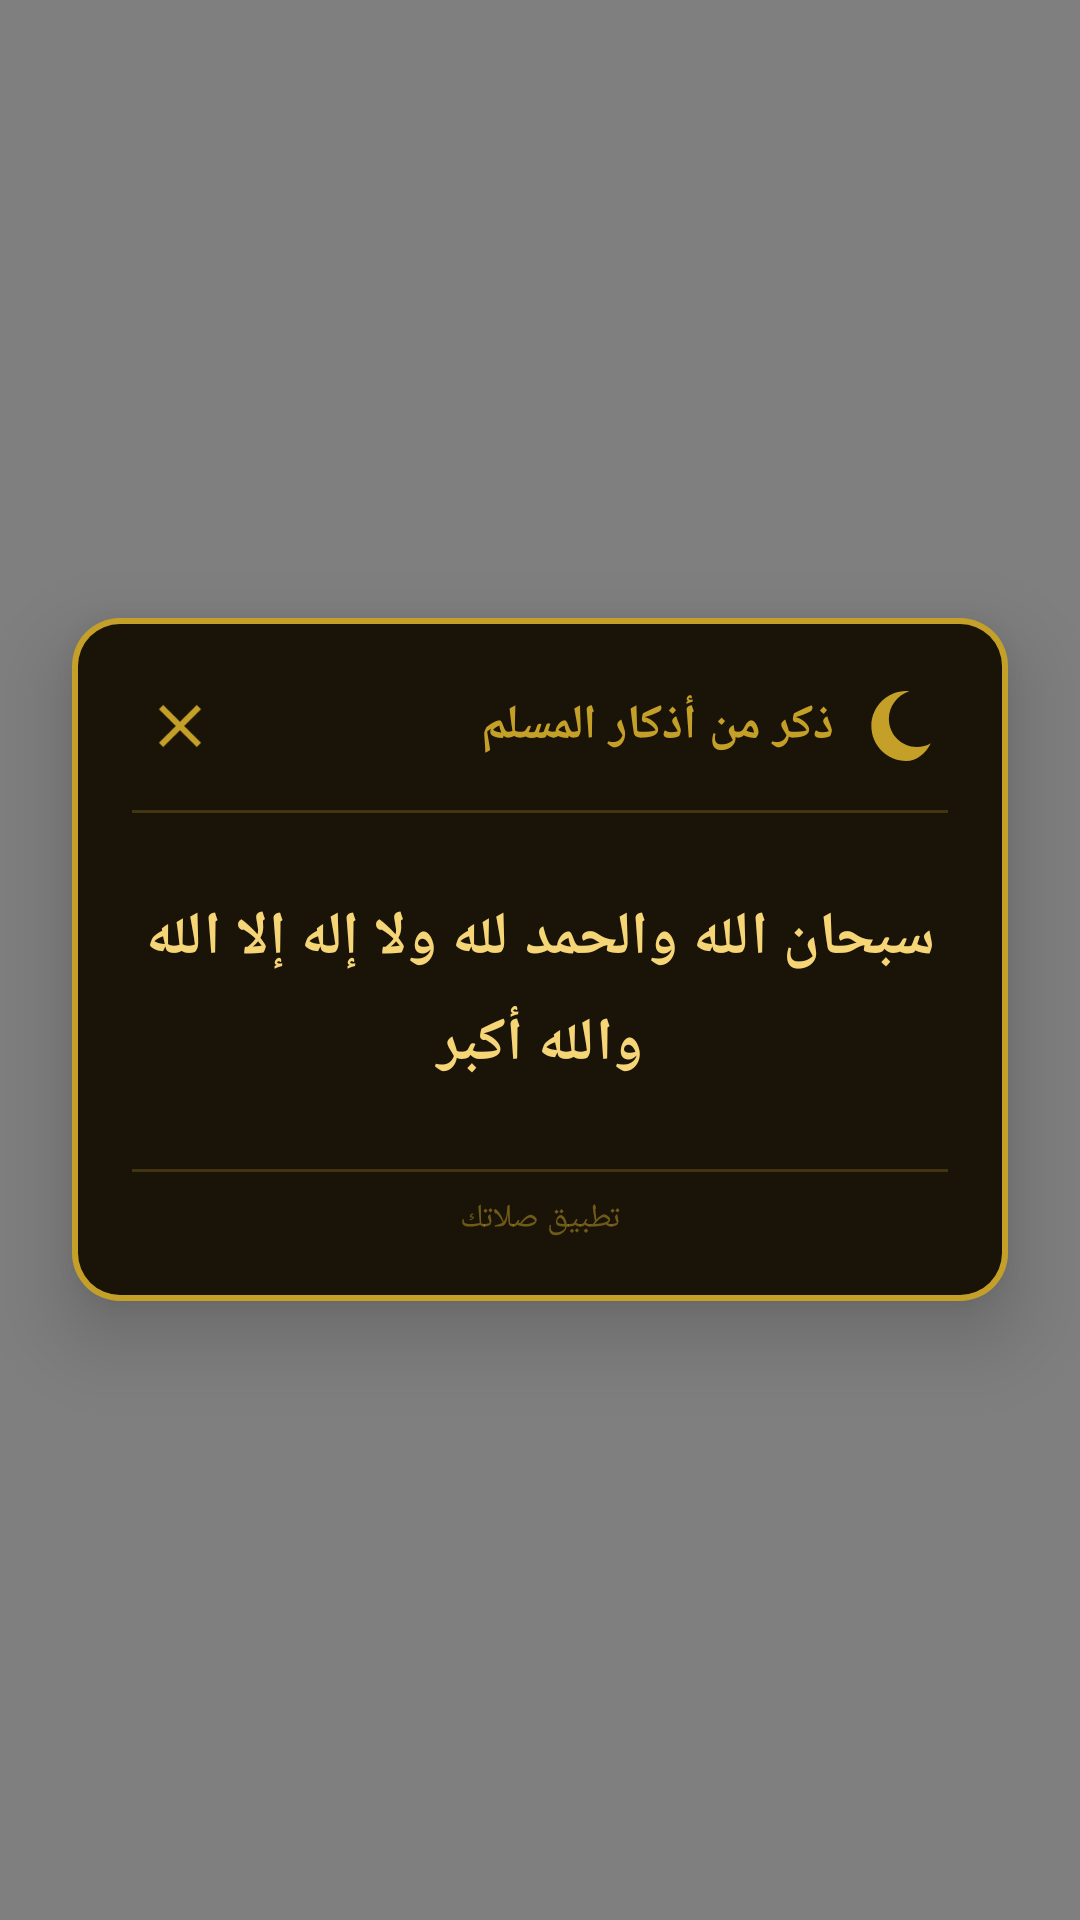

Where to tap for icons on this 1080x1920 app screen, as point (x, y):
إغلاق الذكر: point (180, 726)
رمز إسلامي: point (901, 726)
